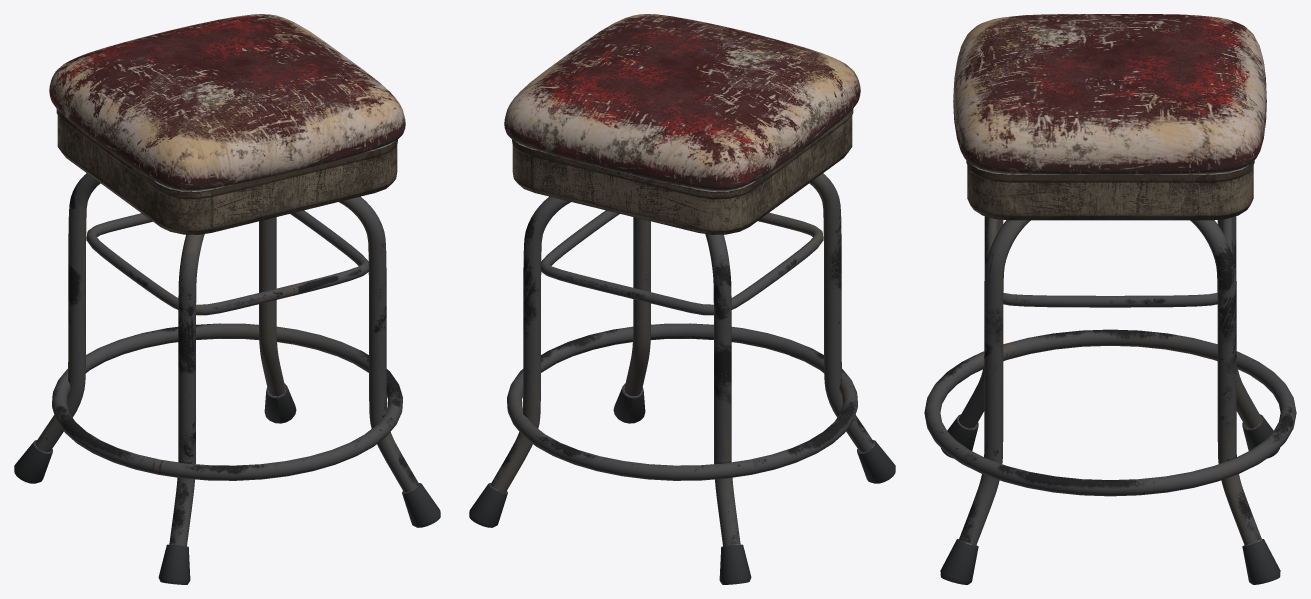
The picture shows the model from 3 angles, left to right: view 1: azimuth 30°, elevation 25°; view 2: azimuth 150°, elevation 25°; view 3: azimuth 270°, elevation 25°; orthographic projection. The views are drawn at different scales.
Parts seen in each view (by area): view 1: BlackShamrock_stool.005_high, BlackShamrock_stool.004_high, BlackShamrock_stool_high, BlackShamrock_stool.002_high; view 2: BlackShamrock_stool.005_high, BlackShamrock_stool.004_high, BlackShamrock_stool_high, BlackShamrock_stool.002_high; view 3: BlackShamrock_stool.005_high, BlackShamrock_stool.004_high, BlackShamrock_stool_high, BlackShamrock_stool.002_high.
Part boxes in pixels (box(x1,y1,x2,y2)): BlackShamrock_stool.005_high: box(49, 14, 405, 190); BlackShamrock_stool.004_high: box(35, 173, 419, 546); BlackShamrock_stool_high: box(56, 109, 397, 234); BlackShamrock_stool.002_high: box(14, 383, 440, 584); BlackShamrock_stool.005_high: box(504, 14, 860, 190); BlackShamrock_stool.004_high: box(490, 173, 874, 546); BlackShamrock_stool_high: box(512, 109, 853, 234); BlackShamrock_stool.002_high: box(469, 383, 895, 584); BlackShamrock_stool.005_high: box(953, 14, 1266, 174); BlackShamrock_stool.004_high: box(924, 216, 1296, 545); BlackShamrock_stool_high: box(966, 160, 1254, 220); BlackShamrock_stool.002_high: box(940, 414, 1280, 584).
Size of what is drawn, in the model's own units: 21.84 by 29.99 by 21.84.
Materials: 1 (1 with a texture image).
